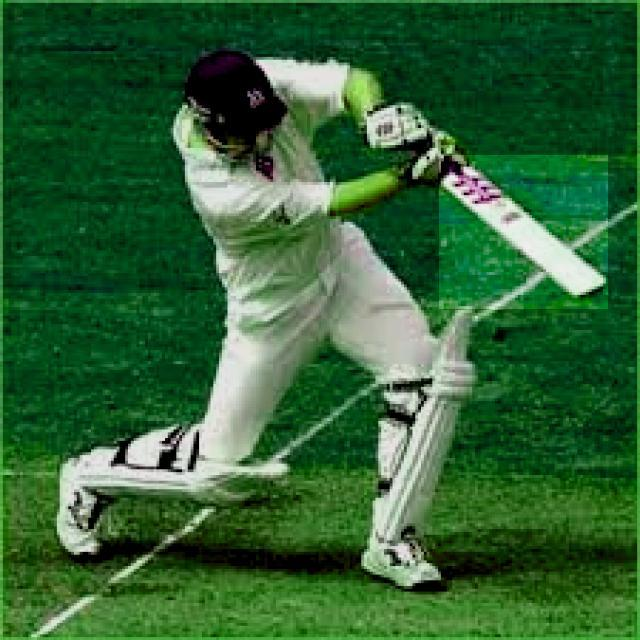bat: (442, 154, 610, 308)
toe: (577, 280, 605, 303)
